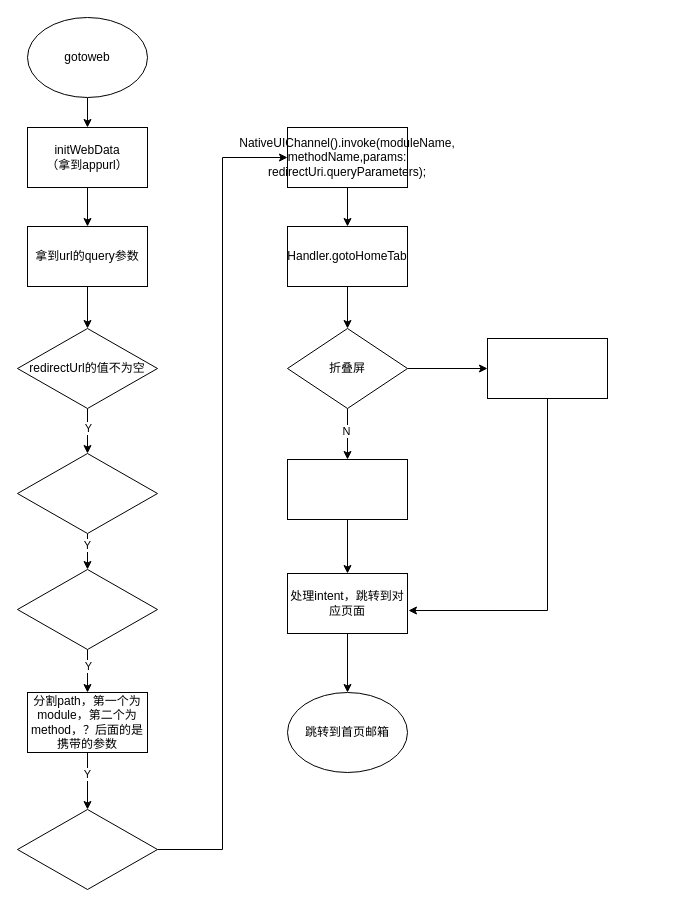
The diagram is 674 pixels wide and 907 high, and some of its shapes have lost their labels. Each missing label, with the centre of its shape:
authority==routeTo: pixel 87 609
cleartask回到首页，使用内部页面切换 getHomeMainInter().onNewIntent(intent);: pixel 547 368
clearTask回退到首页HomeMainFragmentActivity.onNewIntent(): pixel 347 489
module和method都不为空: pixel 87 849
redirectUrl以native前缀: pixel 87 493
